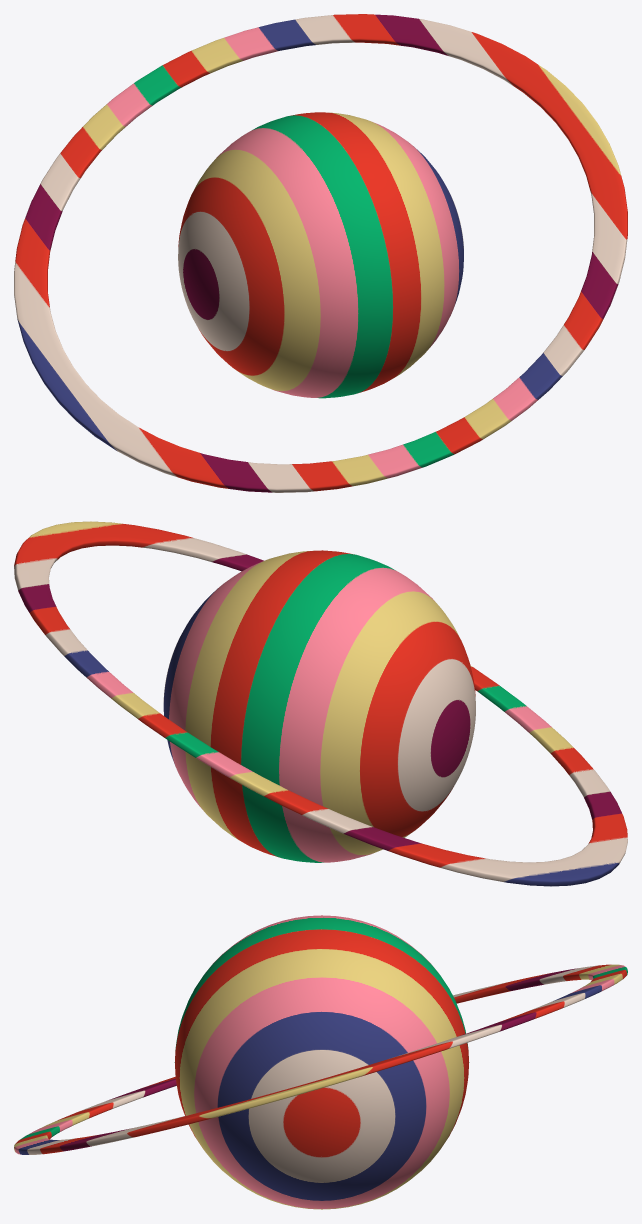
Rendered from B-8_Onstick.fbx.
The picture shows the model from 3 angles, top to bottom: view 1: azimuth 30°, elevation 25°; view 2: azimuth 150°, elevation 25°; view 3: azimuth 270°, elevation 25°; orthographic projection. The views are drawn at different scales.
Parts seen in each view (by area): view 1: B-8; view 2: B-8; view 3: B-8.
Part boxes in pixels (bbox=[...]): B-8: bbox=[14, 14, 627, 492]; B-8: bbox=[14, 521, 627, 886]; B-8: bbox=[14, 915, 627, 1209].
Size of the model in its own units: 1.4 by 0.6822 by 1.42.
1 material, 1 textured.
